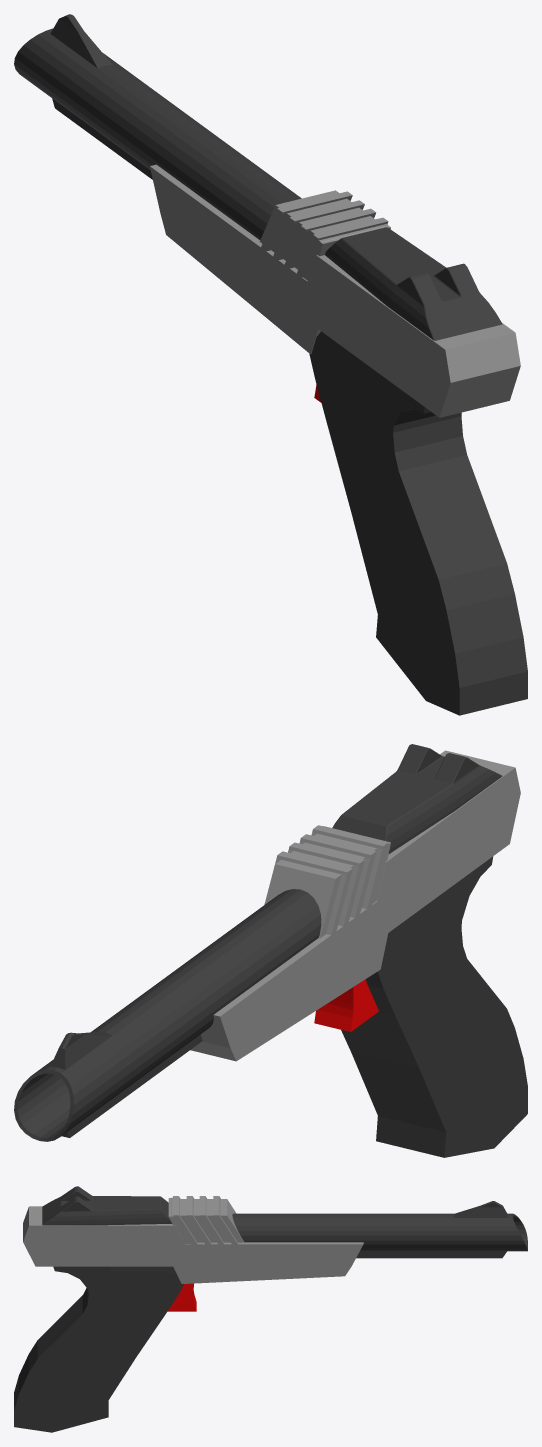
Rendered from Nintendo_gun.fbx.
3 renders of one model, top to bottom at view 1: azimuth 30°, elevation 25°; view 2: azimuth 150°, elevation 25°; view 3: azimuth 270°, elevation 25°, orthographic. The views are drawn at different scales.
Visible parts, largest first — view 1: nintendo_gun; view 2: nintendo_gun; view 3: nintendo_gun.
Part boxes in pixels (x1,y1,x2,y2): nintendo_gun: (14,14,527,715); nintendo_gun: (14,744,527,1157); nintendo_gun: (14,1186,527,1432).
Size of the model in its own units: 10.68 by 58.88 by 120.
